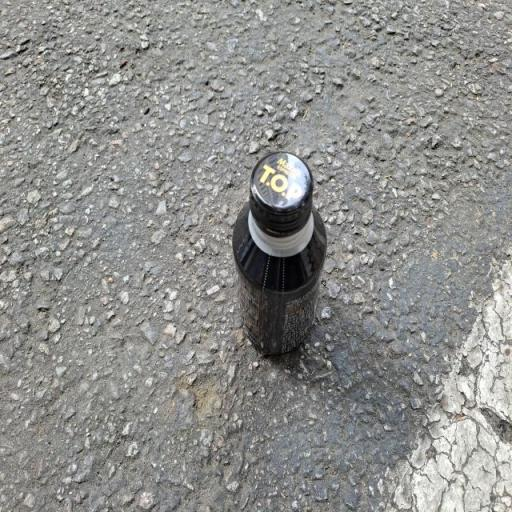metal: (196, 134, 364, 382)
